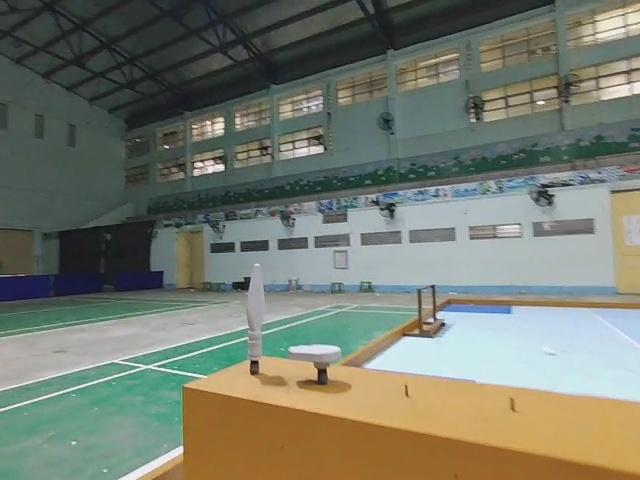Hand: (287, 344, 343, 384)
Sph: (243, 259, 266, 377)
